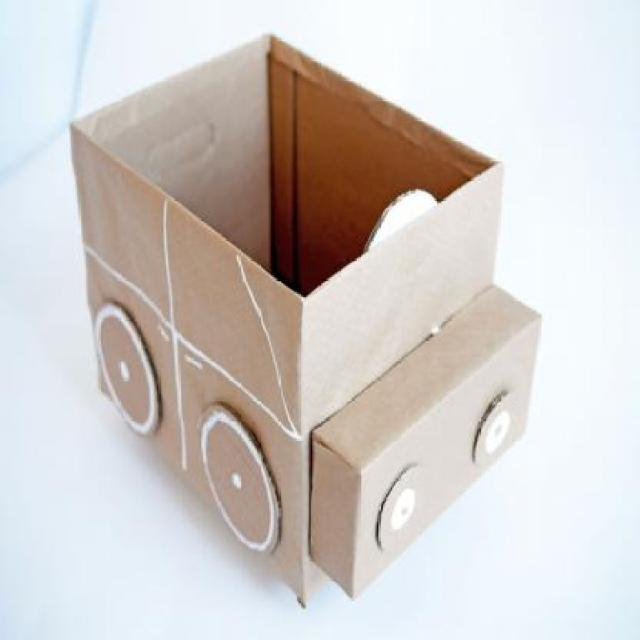box: (66, 35, 543, 602)
